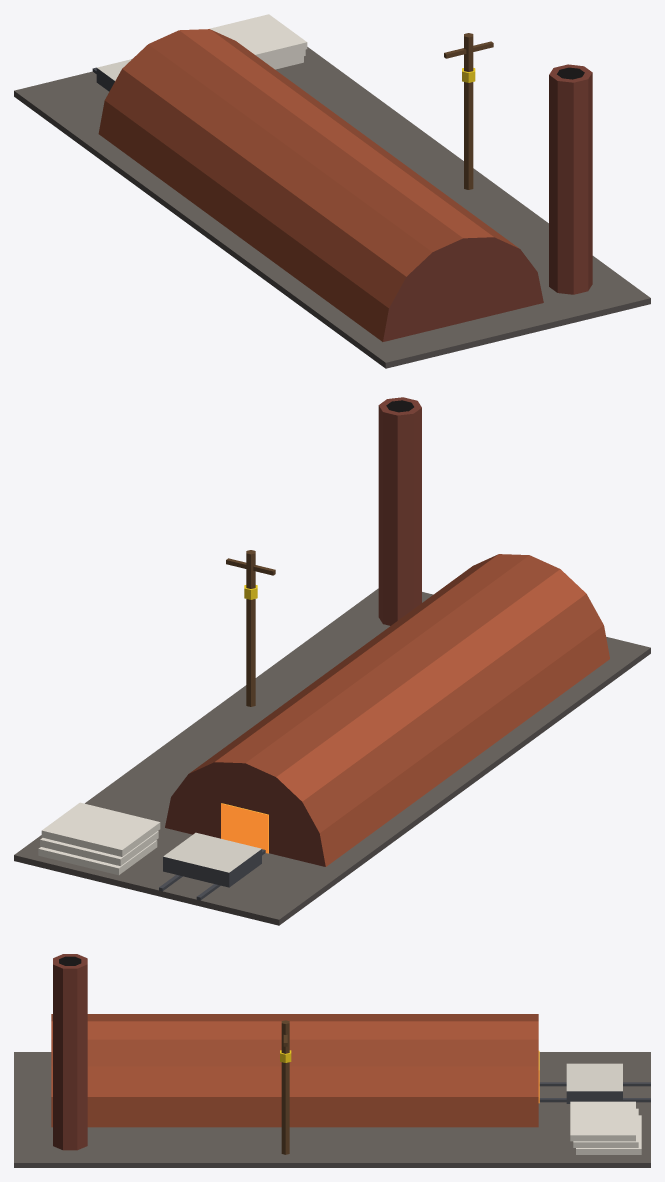
The model's file is tile_kiln.glb.
The picture shows the model from 3 angles, top to bottom: view 1: azimuth 30°, elevation 25°; view 2: azimuth 150°, elevation 25°; view 3: azimuth 270°, elevation 25°; orthographic projection. The views are drawn at different scales.
Visible parts, largest first — view 1: tile_kiln; view 2: tile_kiln; view 3: tile_kiln.
Boxes of the visible parts, left/top/right/bottom form: tile_kiln: left=14, top=14, right=650, bottom=368; tile_kiln: left=14, top=397, right=650, bottom=925; tile_kiln: left=14, top=954, right=650, bottom=1167.
Size of the model in its own units: 2.8 by 2.2 by 6.8.
